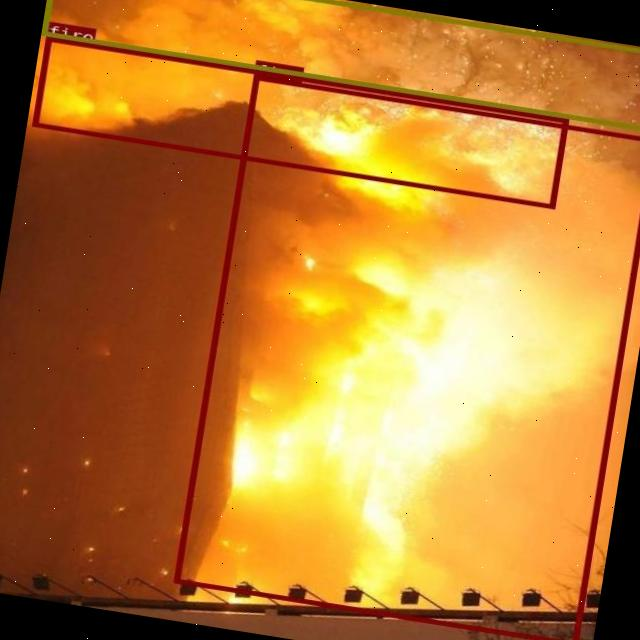fire: (173, 74, 640, 640), (31, 36, 568, 208)
smoke: (41, 0, 640, 129)
